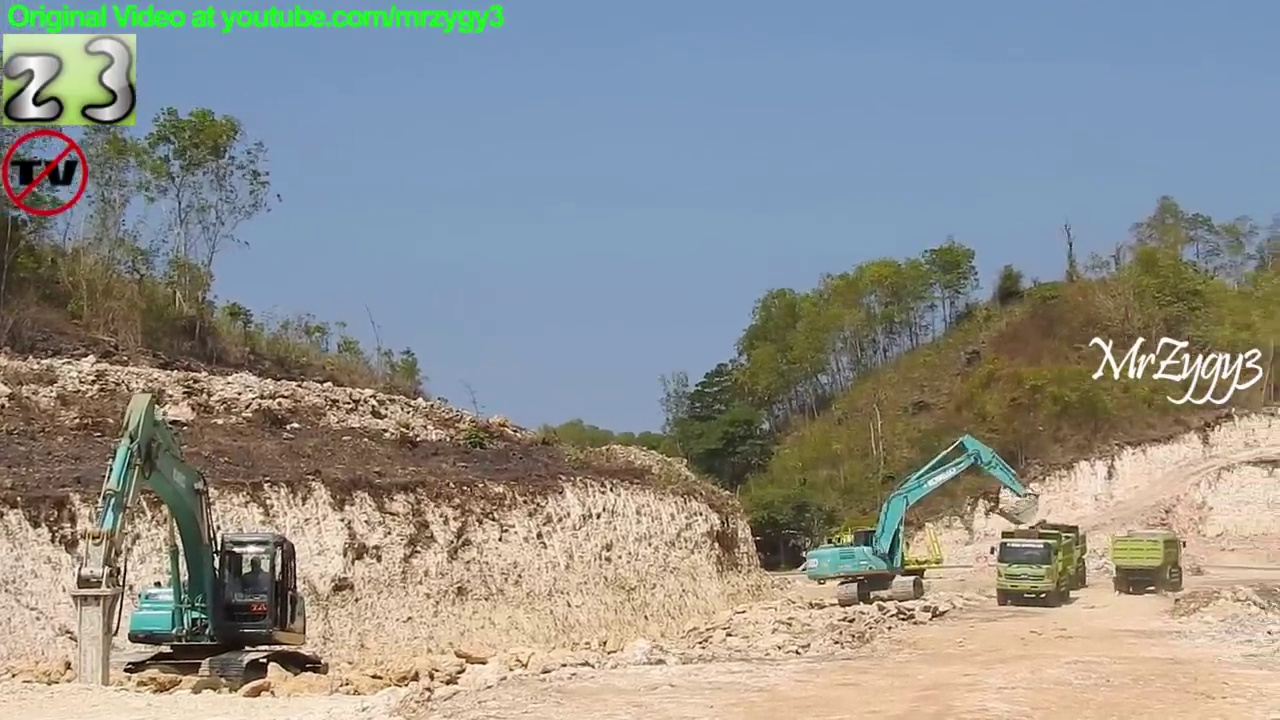excavator: (796, 428, 1043, 607)
excavator breaker: (65, 388, 331, 698)
truck: (991, 526, 1079, 609), (1006, 517, 1088, 599), (1107, 519, 1188, 598)
